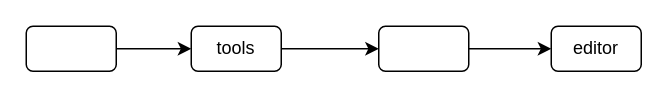
Some shapes in this 668 by 98 pixel diagram are drawn without their labels. Each missing label, with the box of its shape:
_tabs: (377, 25, 469, 71)
modules: (25, 25, 116, 71)
